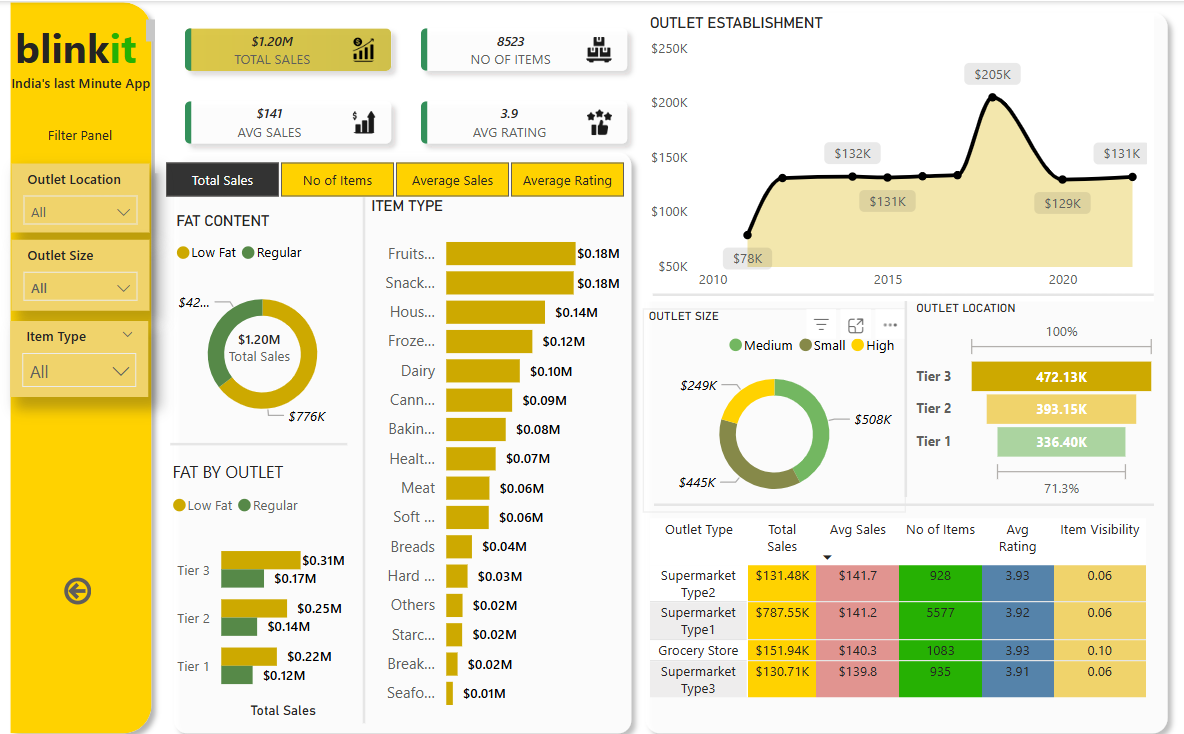

What the dashboard file says about the page in this screenshot:
{"tool":"powerbi","page":{"name":"Page 1","canvas":[950,650],"ordinal":0},"visuals":[{"type":"shape","box":[0,0,131,603],"z":0},{"type":"textbox","box":[0,17.9,130.7,47.9],"z":1000},{"type":"textbox","box":[5,57.9,138.6,30],"z":2000},{"type":"textbox","box":[514.5,0,159,50],"z":3000},{"type":"cardVisual","fields":{"Data":["BlinkIT Grocery Data.Total Sales","BlinkIT Grocery Data.No of Items","BlinkIT Grocery Data.Average Sales","BlinkIT Grocery Data.Average Rating"]},"box":[120,1,412,150],"z":4000},{"type":"shape","box":[130.9,120,383.6,482.7],"z":5000},{"type":"donutChart","title":"FAT CONTENT","fields":{"Y":["BlinkIT Grocery Data.Total Sales"],"Category":["BlinkIT Grocery Data.Item Fat Content"]},"box":[137.3,177.3,148.2,185.5],"z":6000},{"type":"slicer","fields":{"Values":["metrics.metrics"]},"box":[108.5,130,415.4,40.8],"z":7000},{"type":"cardVisual","fields":{"Data":["BlinkIT Grocery Data.Total Sales"]},"box":[151.8,256.4,112.7,57.3],"z":8000},{"type":"clusteredBarChart","title":"FAT BY OUTLET","fields":{"Y":["BlinkIT Grocery Data.Total Sales"],"Category":["BlinkIT Grocery Data.Outlet Location Type"],"Series":["BlinkIT Grocery Data.Item Fat Content"]},"box":[133.6,374.5,148.2,211.8],"z":9000},{"type":"shape","box":[137.3,350.9,141.8,22.7],"z":10000},{"type":"shape","box":[279.1,164.5,26.4,421.8],"z":11000},{"type":"barChart","title":"ITEM TYPE","fields":{"Y":["BlinkIT Grocery Data.Total Sales"],"Category":["BlinkIT Grocery Data.Item Type"]},"box":[292.7,164.5,209.1,421.8],"z":12000},{"type":"shape","box":[508,8,436,595],"z":13000},{"type":"lineChart","title":"OUTLET ESTABLISHMENT","fields":{"Category":["BlinkIT Grocery Data.Outlet Establishment Year"],"Y":["BlinkIT Grocery Data.Total Sales"]},"box":[516,18,408,230],"z":14000},{"type":"donutChart","title":"OUTLET SIZE","fields":{"Y":["BlinkIT Grocery Data.Total Sales"],"Category":["BlinkIT Grocery Data.Outlet Size"]},"box":[515,254,211,163],"z":15000},{"type":"funnel","title":"OUTLET LOCATION","fields":{"Y":["Sum(BlinkIT Grocery Data.Sales)"],"Category":["BlinkIT Grocery Data.Outlet Location Type"]},"box":[729,248,203,163],"z":16000},{"type":"pivotTable","fields":{"Rows":["BlinkIT Grocery Data.Outlet Type"],"Values":["BlinkIT Grocery Data.Total Sales","BlinkIT Grocery Data.Average Sales","BlinkIT Grocery Data.No of Items","BlinkIT Grocery Data.Average Rating","Avg(BlinkIT Grocery Data.Item Visibility)"]},"box":[516,417,417,169],"z":17000},{"type":"shape","box":[523,232,401,22],"z":18000},{"type":"shape","box":[524,405,400,12],"z":19000},{"type":"shape","box":[707,248,37,157],"z":20000},{"type":"slicer","fields":{"Values":["BlinkIT Grocery Data.Outlet Location Type"]},"box":[10,138,111,55],"z":21000},{"type":"slicer","fields":{"Values":["BlinkIT Grocery Data.Outlet Size"]},"box":[10,199,111,57],"z":22000},{"type":"slicer","fields":{"Values":["BlinkIT Grocery Data.Item Type"]},"box":[9,264,111,61],"z":23000},{"type":"textbox","box":[10,100,110,30],"z":24000},{"type":"actionButton","box":[48,465,73,30],"z":25000}]}

Visuals, with their boxes on the page's 950x650 design canvas (x1, y1, x2, y2). These are canvas units, not pixel positions in the 1184x734 screenshot, which may show the page scaled, cropped or inside an application window:
shape: (x1=0, y1=0, x2=131, y2=603)
textbox: (x1=0, y1=18, x2=131, y2=66)
textbox: (x1=5, y1=58, x2=144, y2=88)
textbox: (x1=514, y1=0, x2=674, y2=50)
cardVisual - BlinkIT Grocery Data.Total Sales x BlinkIT Grocery Data.No of Items: (x1=120, y1=1, x2=532, y2=151)
shape: (x1=131, y1=120, x2=514, y2=603)
"FAT CONTENT" donutChart: (x1=137, y1=177, x2=286, y2=363)
slicer - metrics.metrics: (x1=108, y1=130, x2=524, y2=171)
cardVisual - BlinkIT Grocery Data.Total Sales: (x1=152, y1=256, x2=264, y2=314)
"FAT BY OUTLET" clusteredBarChart: (x1=134, y1=374, x2=282, y2=586)
shape: (x1=137, y1=351, x2=279, y2=374)
shape: (x1=279, y1=164, x2=306, y2=586)
"ITEM TYPE" barChart: (x1=293, y1=164, x2=502, y2=586)
shape: (x1=508, y1=8, x2=944, y2=603)
"OUTLET ESTABLISHMENT" lineChart: (x1=516, y1=18, x2=924, y2=248)
"OUTLET SIZE" donutChart: (x1=515, y1=254, x2=726, y2=417)
"OUTLET LOCATION" funnel: (x1=729, y1=248, x2=932, y2=411)
pivotTable - BlinkIT Grocery Data.Outlet Type x BlinkIT Grocery Data.Total Sales: (x1=516, y1=417, x2=933, y2=586)
shape: (x1=523, y1=232, x2=924, y2=254)
shape: (x1=524, y1=405, x2=924, y2=417)
shape: (x1=707, y1=248, x2=744, y2=405)
slicer - BlinkIT Grocery Data.Outlet Location Type: (x1=10, y1=138, x2=121, y2=193)
slicer - BlinkIT Grocery Data.Outlet Size: (x1=10, y1=199, x2=121, y2=256)
slicer - BlinkIT Grocery Data.Item Type: (x1=9, y1=264, x2=120, y2=325)
textbox: (x1=10, y1=100, x2=120, y2=130)
actionButton: (x1=48, y1=465, x2=121, y2=495)
